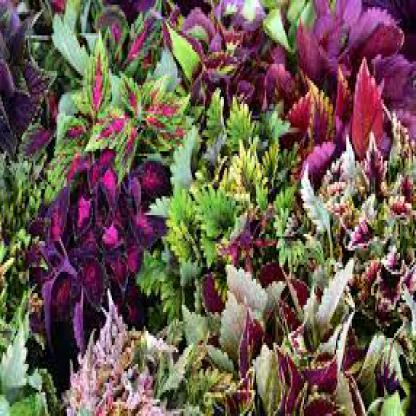Bunga Coleus: (14, 27, 410, 400)
